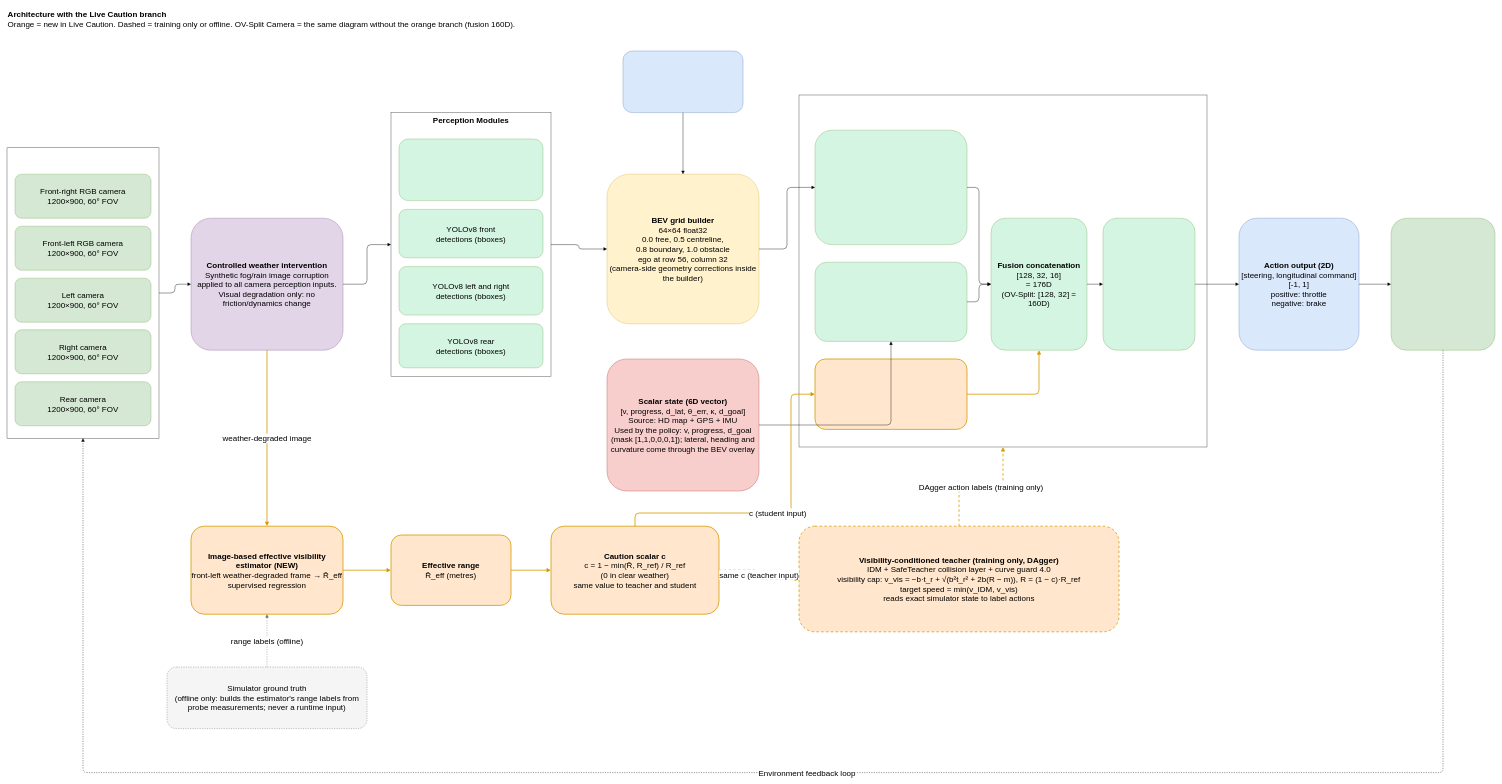
Image size: 1502x784. Some labels were removed from this diagram. The shapes that lost their labels are listed below. From the top down, each one's box as (x1, y1, x2, y2) in pixels, then its label:
(623, 51, 743, 113): HD map Route waypoints Lane boundaries
(399, 139, 543, 201): Stereo SGM Z = f·B / d_px depth map H×W
(815, 130, 967, 245): CNN branch (BEV) Conv(5×5) → Conv(3×3) → Conv(3×3) → pooling → FC → 128D
(799, 95, 1207, 447): Policy network
(1103, 218, 1195, 350): Action head FC(176→128→2) ReLU + Tanh
(1391, 218, 1495, 350): MetaDrive environment Next state s_{t+1}
(7, 147, 159, 438): Sensor Layer
(815, 262, 967, 341): MLP branch (scalar) FC(6→64→32) Output: 32D
(814, 358, 967, 430): Caution branch (NEW) FC(1→16) + ReLU Output: 16D
